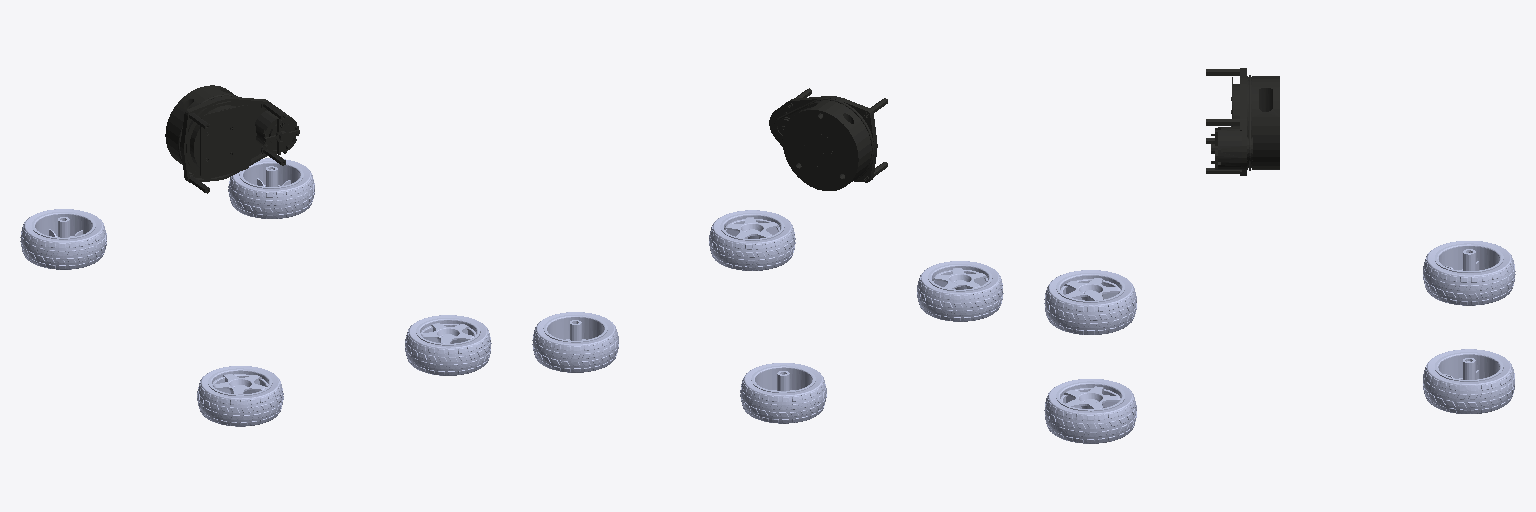
The robot description file, URDF, robot "URDF_Final":
<?xml version="1.0" encoding="utf-8"?>
<!-- This URDF was automatically created by SolidWorks to URDF Exporter! Originally created by Stephen Brawner (brawner@gmail.com) 
     Commit Version: 1.6.0-4-g7f85cfe  Build Version: 1.6.7995.38578
     For more information, please see http://wiki.ros.org/sw_urdf_exporter -->
<robot
  name="URDF_Final">
  <link
    name="base_link">
    <inertial>
      <origin
        xyz="-0.0215960012359151 1.98791973552836E-06 0.0473021509469852"
        rpy="0 0 0" />
      <mass
        value="1.62077206884196" />
      <inertia
        ixx="0.00729270388671559"
        ixy="4.50156743156905E-07"
        ixz="3.84454764398596E-05"
        iyy="0.0101769705459758"
        iyz="-1.58240720112386E-08"
        izz="0.0170963594420367" />
    </inertial>
    <visual>
      <origin
        xyz="0 0 0"
        rpy="-1.5708 0 0" />
      <geometry>
        <mesh
          filename="package://simulacion_ri/meshes/base_link.STL" />
      </geometry>
      <material
        name="">
        <color
          rgba="0.501960784313725 0 0.501960784313725 1" />
      </material>
    </visual>
    <collision>
      <origin
        xyz="0 0 0"
        rpy="-1.5708 0 0" />
      <geometry>
        <mesh
          filename="package://simulacion_ri/meshes/base_link.STL" />
      </geometry>
    </collision>
  </link>
  <link
    name="rueda_delante_izquierda_link">
    <inertial>
      <origin
        xyz="4.42360843788681E-09 -0.0114569553320259 -1.80991133816311E-08"
        rpy="0 0 0" />
      <mass
        value="0.166945648004187" />
      <inertia
        ixx="6.72930244970336E-05"
        ixy="-7.76816141684829E-13"
        ixz="-1.0816505579685E-09"
        iyy="0.000113206411586097"
        iyz="3.12188080606579E-12"
        izz="6.72960681931953E-05" />
    </inertial>
    <visual>
      <origin
        xyz="0 0 0"
        rpy="-1.5708 0 0" />
      <geometry>
        <mesh
          filename="package://simulacion_ri/meshes/rueda_delante_izquierda_link.STL" />
      </geometry>
      <material
        name="">
        <color
          rgba="0.792156862745098 0.819607843137255 0.933333333333333 1" />
      </material>
    </visual>
    <collision>
      <origin
        xyz="0 0 0"
        rpy="-1.5708 0 0" />
      <geometry>
        <mesh
          filename="package://simulacion_ri/meshes/rueda_delante_izquierda_link.STL" />
      </geometry>
    </collision>
  </link>
  <joint
    name="rueda_delante_izquierda_joint"
    type="continuous">
    <origin
      xyz="0.090145 0.14065 0.0125"
      rpy="0 0 0" />
    <parent
      link="base_link" />
    <child
      link="rueda_delante_izquierda_link" />
    <axis
      xyz="0 1 0" />
  </joint>
  <link
    name="rueda_delante_derecha_link">
    <inertial>
      <origin
        xyz="-1.85934702912061E-08 0.0114569553321121 -1.31549013696053E-09"
        rpy="0 0 0" />
      <mass
        value="0.166945647961675" />
      <inertia
        ixx="6.72964134163344E-05"
        ixy="-3.23034935191085E-12"
        ixz="5.95387395892094E-12"
        iyy="0.000113206411571408"
        iyz="-2.40053575325456E-13"
        izz="6.72926792591386E-05" />
    </inertial>
    <visual>
      <origin
        xyz="0 0 0"
        rpy="-1.5708 0 0" />
      <geometry>
        <mesh
          filename="package://simulacion_ri/meshes/rueda_delante_derecha_link.STL" />
      </geometry>
      <material
        name="">
        <color
          rgba="0.792156862745098 0.819607843137255 0.933333333333333 1" />
      </material>
    </visual>
    <collision>
      <origin
        xyz="0 0 0"
        rpy="-1.5708 0 0" />
      <geometry>
        <mesh
          filename="package://simulacion_ri/meshes/rueda_delante_derecha_link.STL" />
      </geometry>
    </collision>
  </link>
  <joint
    name="rueda_delante_derecha_joint"
    type="continuous">
    <origin
      xyz="0.090145 -0.14075 0.0125"
      rpy="0 0 0" />
    <parent
      link="base_link" />
    <child
      link="rueda_delante_derecha_link" />
    <axis
      xyz="0 1 0" />
  </joint>
  <link
    name="rueda_trasera_izquierda_link">
    <inertial>
      <origin
        xyz="-1.57372198050787E-08 -0.0114569553319947 -9.9716666000782E-09"
        rpy="0 0 0" />
      <mass
        value="0.166945648020152" />
      <inertia
        ixx="6.72951027113786E-05"
        ixy="2.69912050916349E-12"
        ixz="1.78225702684723E-09"
        iyy="0.000113206411591613"
        iyz="1.72380905063917E-12"
        izz="6.72939899843943E-05" />
    </inertial>
    <visual>
      <origin
        xyz="0 0 0"
        rpy="-1.5708 0 0" />
      <geometry>
        <mesh
          filename="package://simulacion_ri/meshes/rueda_trasera_izquierda_link.STL" />
      </geometry>
      <material
        name="">
        <color
          rgba="0.792156862745098 0.819607843137255 0.933333333333333 1" />
      </material>
    </visual>
    <collision>
      <origin
        xyz="0 0 0"
        rpy="-1.5708 0 0" />
      <geometry>
        <mesh
          filename="package://simulacion_ri/meshes/rueda_trasera_izquierda_link.STL" />
      </geometry>
    </collision>
  </link>
  <joint
    name="rueda_trasera_izquierda_joint"
    type="continuous">
    <origin
      xyz="-0.10109 0.14075 0.0125"
      rpy="0 0 0" />
    <parent
      link="base_link" />
    <child
      link="rueda_trasera_izquierda_link" />
    <axis
      xyz="0 1 0" />
  </joint>
  <link
    name="rueda_trasera_derecha_link">
    <inertial>
      <origin
        xyz="-1.85762422943991E-08 0.0114569553320164 -1.45158656275624E-09"
        rpy="0 0 0" />
      <mass
        value="0.16694564800895" />
      <inertia
        ixx="6.72964131425014E-05"
        ixy="-3.19798414980567E-12"
        ixz="3.25408794534319E-11"
        iyy="0.000113206411587756"
        iyz="-2.4682772153087E-13"
        izz="6.72926795493964E-05" />
    </inertial>
    <visual>
      <origin
        xyz="0 0 0"
        rpy="-1.5708 0 0" />
      <geometry>
        <mesh
          filename="package://simulacion_ri/meshes/rueda_trasera_derecha_link.STL" />
      </geometry>
      <material
        name="">
        <color
          rgba="0.792156862745098 0.819607843137255 0.933333333333333 1" />
      </material>
    </visual>
    <collision>
      <origin
        xyz="0 0 0"
        rpy="-1.5708 0 0" />
      <geometry>
        <mesh
          filename="package://simulacion_ri/meshes/rueda_trasera_derecha_link.STL" />
      </geometry>
    </collision>
  </link>
  <joint
    name="rueda_trasera_derecha_joint"
    type="continuous">
    <origin
      xyz="-0.10109 -0.14075 0.0125"
      rpy="0 0 0" />
    <parent
      link="base_link" />
    <child
      link="rueda_trasera_derecha_link" />
    <axis
      xyz="0 1 0" />
  </joint>
  <link
    name="laser">
    <inertial>
      <origin
        xyz="0.00512745596438566 0.000591552344835304 -0.0195507847870178"
        rpy="0 0 0" />
      <mass
        value="0.141654473640087" />
      <inertia
        ixx="5.69097097753618E-05"
        ixy="-2.87900344417994E-07"
        ixz="1.24753616532662E-05"
        iyy="8.93215448552512E-05"
        iyz="-7.21857208026095E-07"
        izz="0.000108702097721123" />
    </inertial>
    <visual>
      <origin
        xyz="0 0 0"
        rpy="-1.5708 0 0" />
      <geometry>
        <mesh
          filename="package://simulacion_ri/meshes/lidar_link.STL" />
      </geometry>
      <material
        name="">
        <color
          rgba="0.211764705882353 0.211764705882353 0.203921568627451 1" />
      </material>
    </visual>
    <collision>
      <origin
        xyz="0 0 0"
        rpy="-1.5708 0 0" />
      <geometry>
        <mesh
          filename="package://simulacion_ri/meshes/lidar_link.STL" />
      </geometry>
    </collision>
  </link>
  <joint
    name="laser_joint"
    type="fixed">
    <origin
      xyz="-0.05388 -3.5032E-05 0.17"
      rpy="0 0 0" />
    <parent
      link="base_link" />
    <child
      link="laser" />
    <axis
      xyz="0 0 0" />
  </joint>
</robot>

--- Render facts (derived) ---
The picture shows the robot from 3 angles, left to right: view 1: azimuth 30°, elevation 25°; view 2: azimuth 150°, elevation 25°; view 3: azimuth 270°, elevation 25°; orthographic projection.
Model URDF_Final with 6 links and 5 joints (4 continuous, 1 fixed), rooted at base_link, posed every joint at zero.
Visible links, largest first — view 1: laser, rueda_delante_derecha_link, rueda_trasera_izquierda_link, rueda_trasera_derecha_link, rueda_delante_izquierda_link; view 2: laser, rueda_delante_derecha_link, rueda_trasera_izquierda_link, rueda_delante_izquierda_link, rueda_trasera_derecha_link; view 3: laser, rueda_trasera_derecha_link, rueda_trasera_izquierda_link, rueda_delante_izquierda_link, rueda_delante_derecha_link.
Link boxes in pixels (box(x1,y1,x2,y2)): laser: box(165, 85, 299, 193); rueda_delante_derecha_link: box(405, 315, 491, 375); rueda_trasera_izquierda_link: box(20, 209, 106, 269); rueda_trasera_derecha_link: box(197, 366, 283, 426); rueda_delante_izquierda_link: box(228, 158, 314, 218); laser: box(769, 88, 887, 190); rueda_delante_derecha_link: box(709, 210, 795, 270); rueda_trasera_izquierda_link: box(740, 363, 826, 423); rueda_delante_izquierda_link: box(532, 312, 618, 372); rueda_trasera_derecha_link: box(917, 261, 1003, 321); laser: box(1206, 68, 1279, 175); rueda_trasera_derecha_link: box(1044, 270, 1136, 334); rueda_trasera_izquierda_link: box(1423, 241, 1515, 305); rueda_delante_izquierda_link: box(1423, 349, 1514, 413); rueda_delante_derecha_link: box(1044, 379, 1136, 443).
Size in the robot's own frame: 0.2602 by 0.3504 by 0.223 metres.
Meshes: 6 distinct files referenced, 5 mesh visuals loaded (5 binary STL); not drawn: 1 (reference not matched to a file when rendering).
